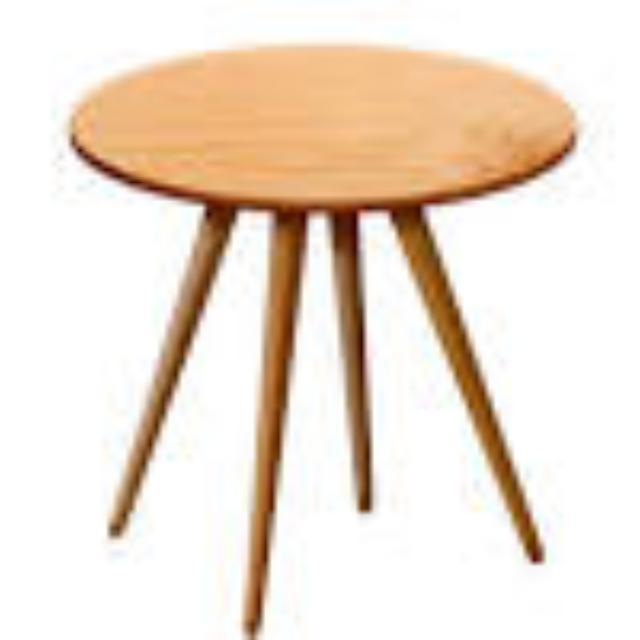obstacle: (42, 19, 600, 639)
